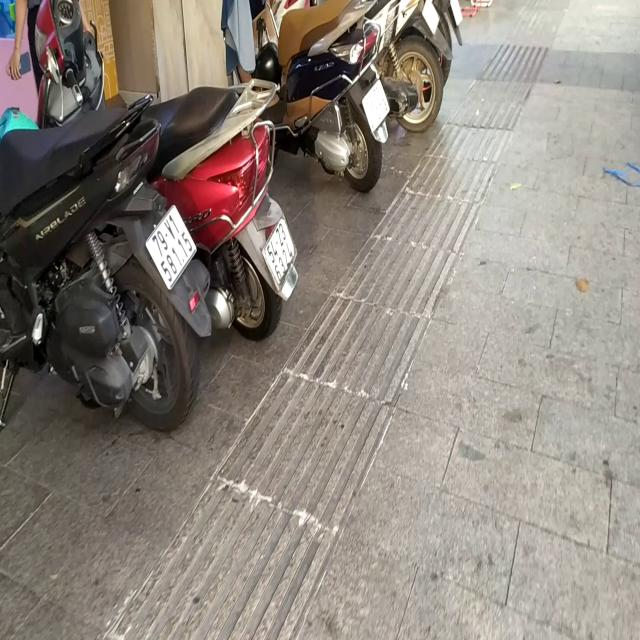bien_trang: (146, 205, 198, 287), (258, 212, 298, 288)
